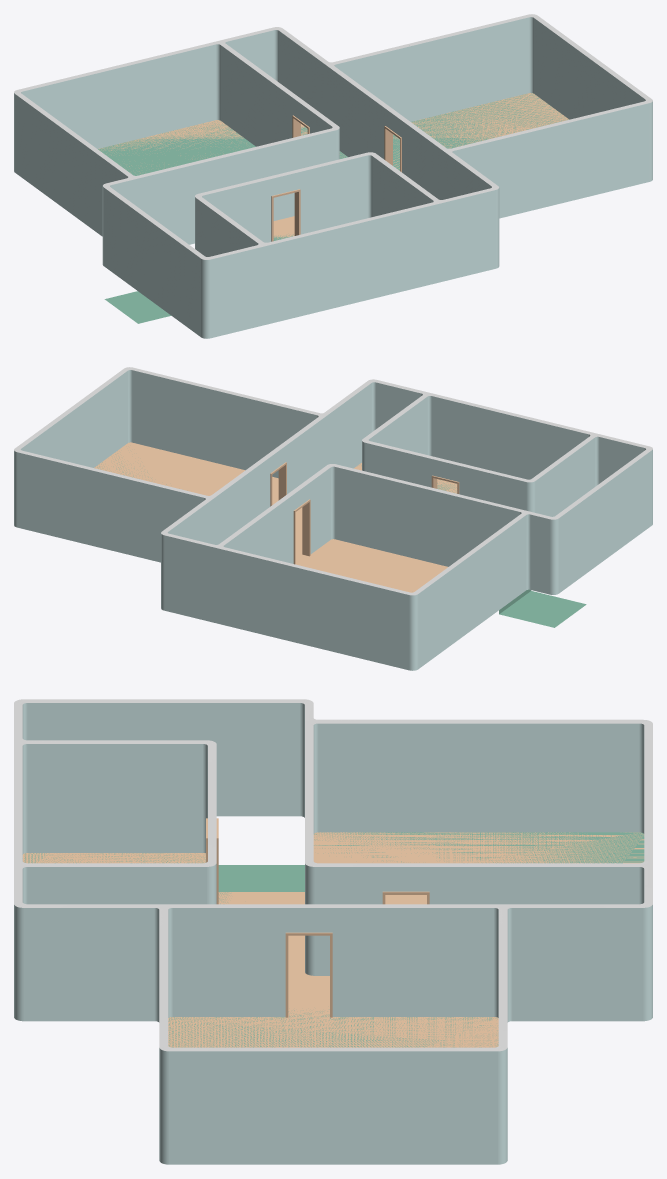
File: 2nd_floor.fbx
The picture shows the model from 3 angles, top to bottom: view 1: azimuth 30°, elevation 25°; view 2: azimuth 150°, elevation 25°; view 3: azimuth 270°, elevation 25°; orthographic projection. The views are drawn at different scales.
Visible parts, largest first — view 1: 2ndOutside, TopRoom1, TopRoom2, TopCorridor, MiniCorridor, MiniRoom, 2ndBloodFloor, 2ndFullFloor; view 2: 2ndOutside, TopRoom1, TopRoom2, TopCorridor, MiniRoom, MiniCorridor, 2ndFullFloor, 2ndBloodFloor; view 3: 2ndOutside, TopRoom2, TopRoom1, 2ndFullFloor, MiniCorridor, MiniRoom, TopCorridor, 2ndBloodFloor.
Part boxes in pixels (x1=…): 2ndOutside: x1=14, y1=14, x2=652, y2=338; TopRoom1: x1=329, y1=15, x2=649, y2=165; TopRoom2: x1=17, y1=42, x2=337, y2=177; TopCorridor: x1=207, y1=28, x2=495, y2=205; MiniCorridor: x1=106, y1=115, x2=390, y2=258; MiniRoom: x1=198, y1=153, x2=437, y2=244; 2ndBloodFloor: x1=98, y1=93, x2=568, y2=323; 2ndFullFloor: x1=99, y1=93, x2=568, y2=239; 2ndOutside: x1=14, y1=367, x2=652, y2=670; TopRoom1: x1=17, y1=368, x2=323, y2=500; TopRoom2: x1=219, y1=464, x2=525, y2=593; TopCorridor: x1=164, y1=380, x2=441, y2=555; MiniRoom: x1=365, y1=394, x2=595, y2=488; MiniCorridor: x1=313, y1=428, x2=649, y2=518; 2ndFullFloor: x1=94, y1=442, x2=457, y2=592; 2ndBloodFloor: x1=97, y1=453, x2=586, y2=627; 2ndOutside: x1=14, y1=699, x2=652, y2=1164; TopRoom2: x1=308, y1=722, x2=647, y2=865; TopRoom1: x1=163, y1=906, x2=502, y2=1049; 2ndFullFloor: x1=22, y1=832, x2=644, y2=1047; MiniCorridor: x1=19, y1=701, x2=358, y2=975; MiniRoom: x1=18, y1=742, x2=212, y2=865; TopCorridor: x1=18, y1=855, x2=647, y2=906; 2ndBloodFloor: x1=22, y1=832, x2=644, y2=1047.
Size of the model in its own units: 3436 by 746 by 2636.
